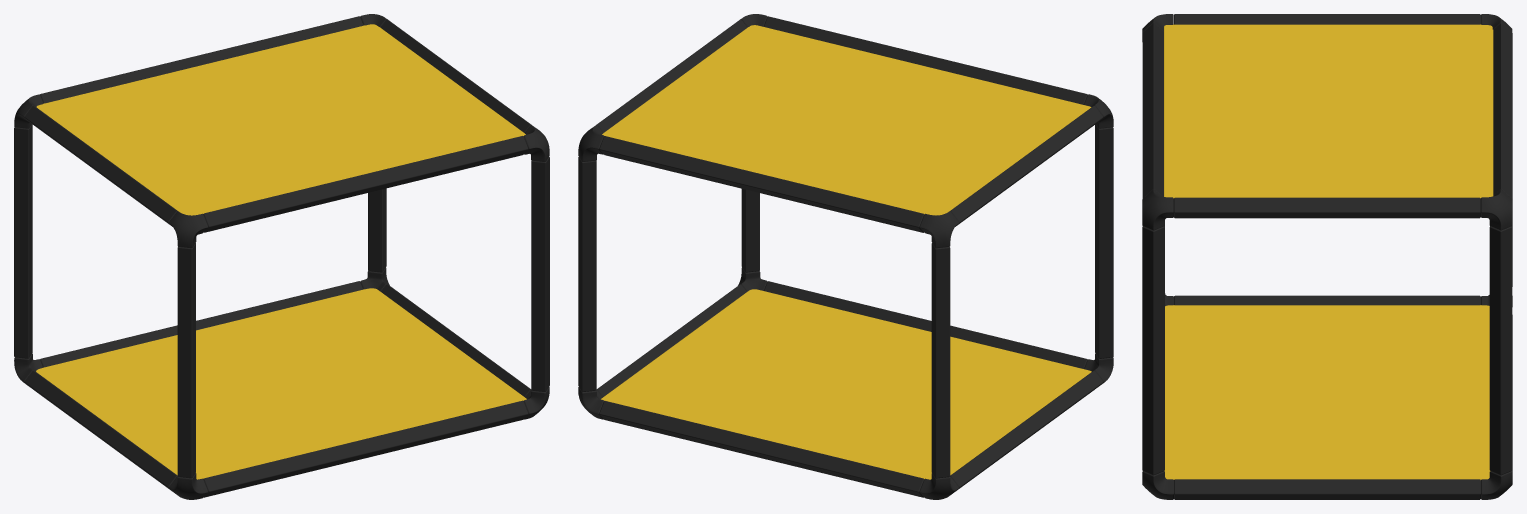
3 views of the same model, side by side, from view 1: azimuth 30°, elevation 25°; view 2: azimuth 150°, elevation 25°; view 3: azimuth 270°, elevation 25° (orthographic). The views are drawn at different scales.
Visible parts, largest first — view 1: 479x374x329; view 2: 479x374x329; view 3: 479x374x329.
Boxes of the visible parts, x1=… form: 479x374x329: x1=14, y1=14, x2=549, y2=499; 479x374x329: x1=578, y1=14, x2=1113, y2=499; 479x374x329: x1=1142, y1=14, x2=1512, y2=499.
Size of the model in its own units: 0.5567 by 0.4066 by 0.4512.
